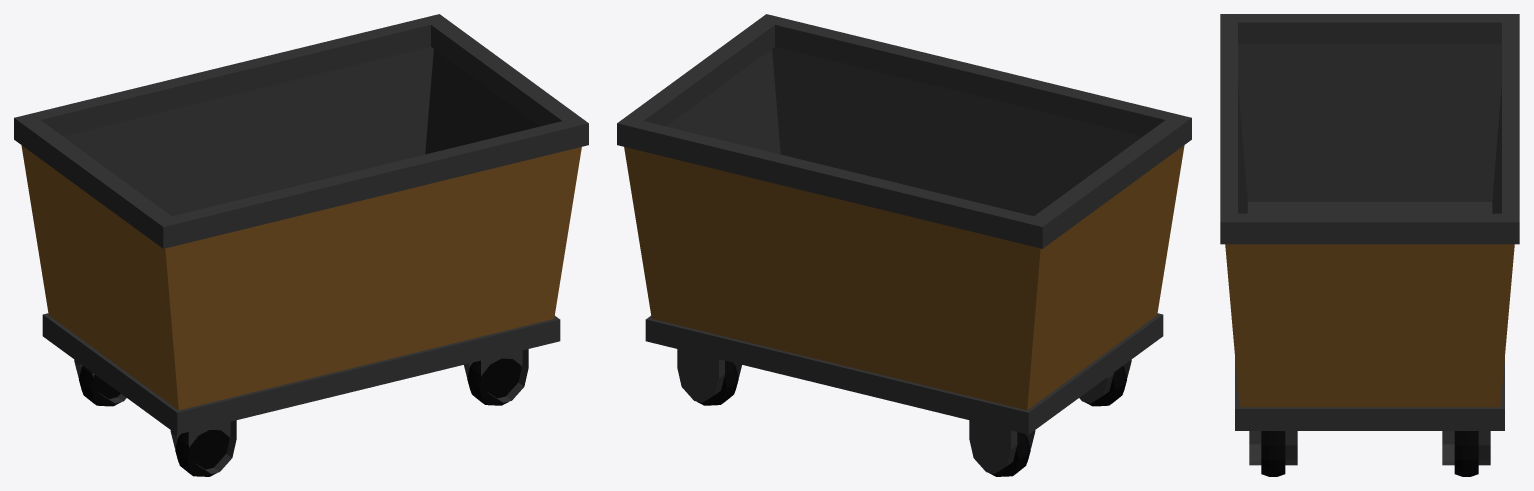
The model's file is minecart.gltf.
3 renders of one model, left to right at view 1: azimuth 30°, elevation 25°; view 2: azimuth 150°, elevation 25°; view 3: azimuth 270°, elevation 25°, orthographic.
Parts seen in each view (by area): view 1: Carriage, Whell.003, Whell.004, Whell, Socket.004, Socket.003; view 2: Carriage, Socket, Socket.002, Whell.002, Whell, Whell.004; view 3: Carriage, Whell.002, Whell.003, Socket.002, Socket.003.
Boxes of the visible parts, x1,y1,x2,y2 form: Carriage: (14,14,588,434); Whell.003: (467,358,521,405); Whell.004: (175,430,229,476); Whell: (79,366,121,406); Socket.004: (170,420,236,473); Socket.003: (464,349,528,402); Carriage: (617,14,1191,434); Socket: (969,420,1035,473); Socket.002: (677,349,741,402); Whell.002: (697,360,738,405); Whell: (988,432,1030,476); Whell.004: (1084,366,1126,406); Carriage: (1220,14,1519,430); Whell.002: (1454,431,1478,476); Whell.003: (1261,431,1285,476); Socket.002: (1442,431,1490,465); Socket.003: (1249,431,1297,465).
Size of the model in its own units: 2.04 by 1.3 by 1.24.
